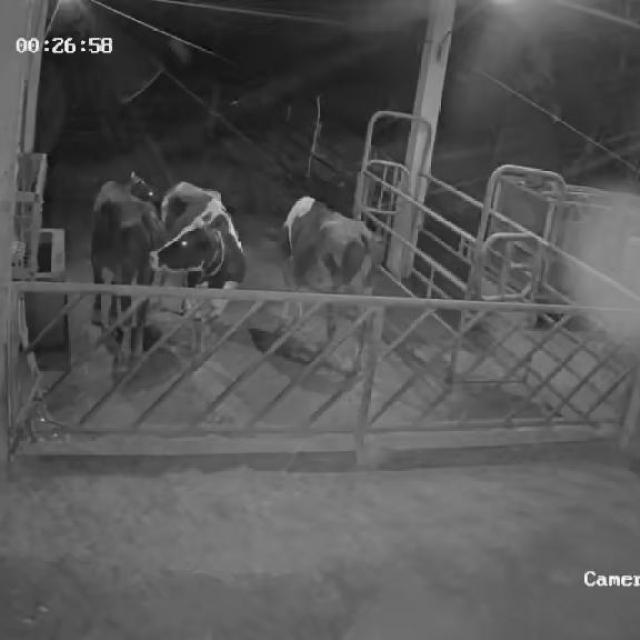standing: (86, 170, 173, 377), (282, 195, 382, 375)
